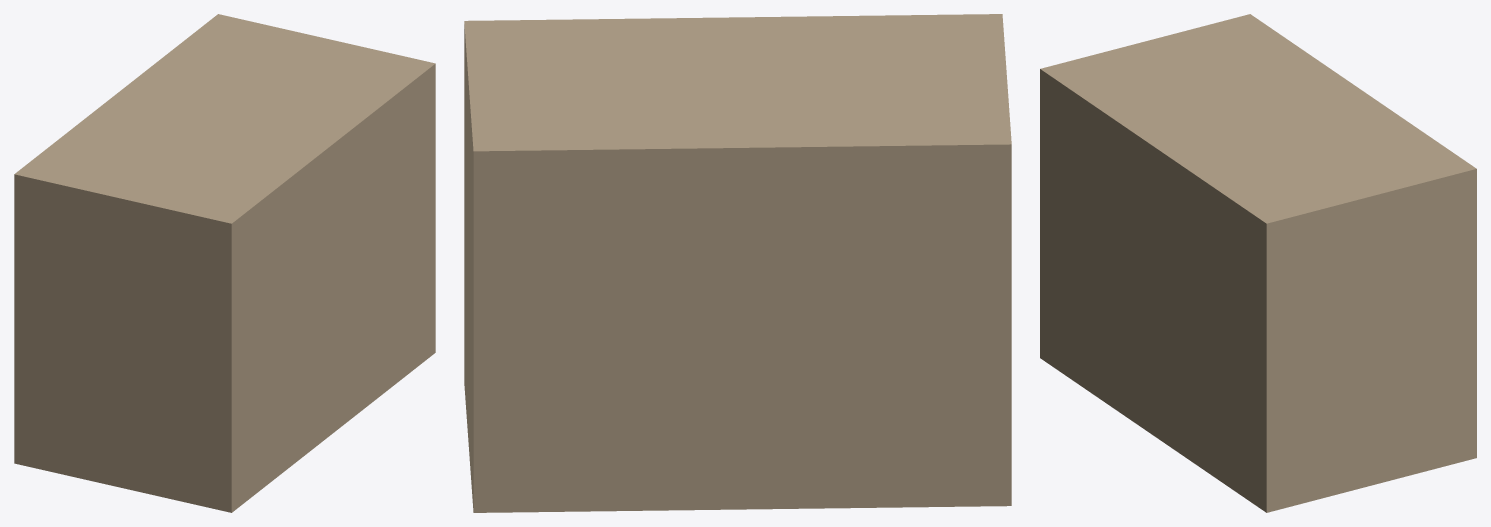
Rendered from bld_101791727.dae.
The picture shows the model from 3 angles, left to right: view 1: azimuth 30°, elevation 25°; view 2: azimuth 150°, elevation 25°; view 3: azimuth 270°, elevation 25°; orthographic projection. The views are drawn at different scales.
Visible parts, largest first — view 1: bld_101791727; view 2: bld_101791727; view 3: bld_101791727.
Boxes of the visible parts, x1=… form: bld_101791727: x1=14, y1=14, x2=435, y2=512; bld_101791727: x1=464, y1=14, x2=1011, y2=512; bld_101791727: x1=1040, y1=14, x2=1476, y2=512.
Bounding box in the file's own units: 12.44 × 10.95 × 8.
